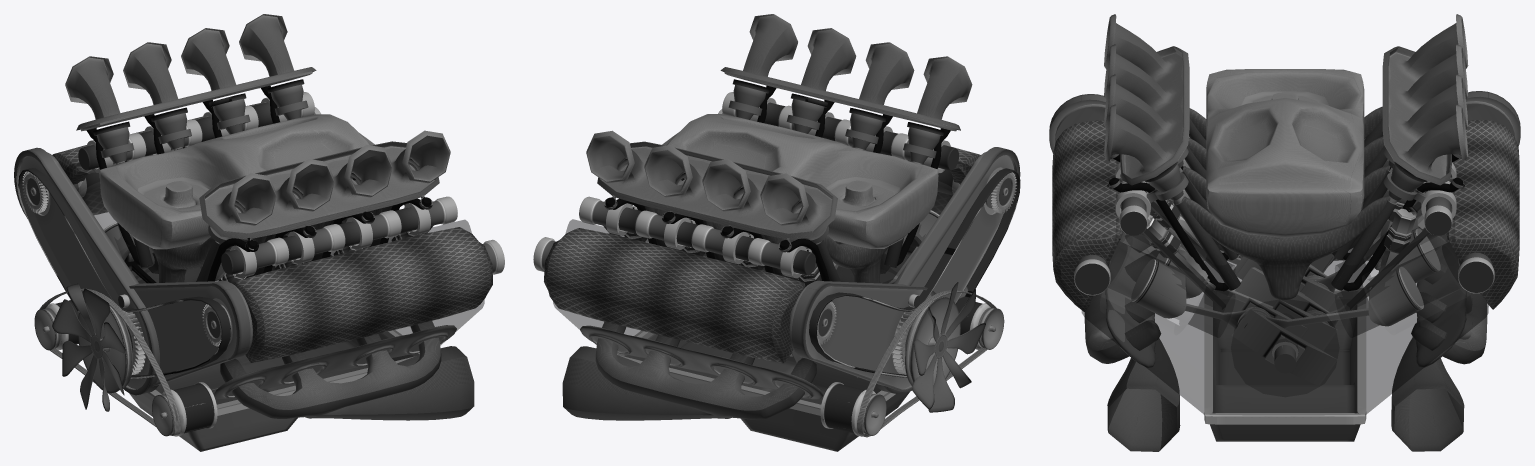
File: v8engine.fbx
3 renders of one model, left to right at view 1: azimuth 30°, elevation 25°; view 2: azimuth 150°, elevation 25°; view 3: azimuth 270°, elevation 25°, orthographic. The views are drawn at different scales.
Visible parts, largest first — view 1: Plane_008_168_0, Plane_013_40_0, Cube_026_184_0, Plane_002_122_0, Plane_014_32_0, Cube_116_0, Circle_031_180_0, Circle_030_178_0, Cylinder_033_102_0, Plane_011_182_0, Circle_032_172_0, Plane_023_14_0 (+21 smaller); view 2: Plane_012_186_0, Plane_006_174_0, Cube_026_184_0, Plane_014_32_0, Plane_002_122_0, Cube_116_0, Circle_031_180_0, Circle_030_178_0, Cylinder_038_42_0, Plane_011_182_0, Circle_032_172_0, Plane_023_14_0 (+21 smaller); view 3: Cube_116_0, Cube_026_184_0, Plane_011_182_0, Plane_013_40_0, Plane_006_174_0, Plane_014_32_0, Plane_002_122_0, Plane_012_186_0, Plane_008_168_0, Plane_001_110_0, Cylinder_004_78_0, Cylinder_033_102_0 (+19 smaller).
Boxes of the visible parts, x1,y1,x2,y2 form: Plane_008_168_0: (234,227,492,362); Plane_013_40_0: (214,321,474,420); Cube_026_184_0: (99,114,374,249); Plane_002_122_0: (199,130,450,239); Plane_014_32_0: (65,14,316,131); Cube_116_0: (65,113,484,408); Circle_031_180_0: (14,147,159,395); Circle_030_178_0: (129,280,252,386); Cylinder_033_102_0: (221,196,457,278); Plane_011_182_0: (129,330,419,451); Circle_032_172_0: (52,283,125,411); Plane_023_14_0: (18,168,230,378); Plane_012_186_0: (544,228,805,363); Plane_006_174_0: (562,321,823,420); Cube_026_184_0: (662,114,938,248); Plane_014_32_0: (586,130,837,239); Plane_002_122_0: (720,14,972,131); Cube_116_0: (553,113,970,408); Circle_031_180_0: (789,280,935,392); Circle_030_178_0: (876,147,1020,393); Cylinder_038_42_0: (579,196,815,280); Plane_011_182_0: (617,330,909,451); Circle_032_172_0: (912,282,985,412); Plane_023_14_0: (809,168,1020,377); Cube_116_0: (1082,160,1488,414); Cube_026_184_0: (1206,69,1364,237); Plane_011_182_0: (1204,288,1366,441); Plane_013_40_0: (1084,231,1180,451); Plane_006_174_0: (1391,234,1487,451); Plane_014_32_0: (1382,14,1468,185); Plane_002_122_0: (1104,14,1189,185); Plane_012_186_0: (1446,120,1519,309); Plane_008_168_0: (1052,120,1122,311); Plane_001_110_0: (1173,106,1390,299); Cylinder_004_78_0: (1231,254,1337,386); Cylinder_033_102_0: (1115,162,1225,309).
Bounding box in the file's own units: 220 × 206 × 263.
94 materials, 77 textured.
